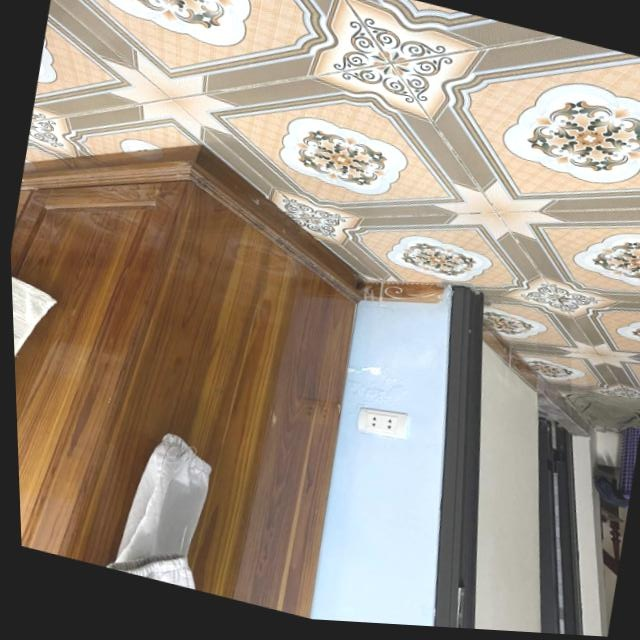outlet: (356, 401, 412, 443)
